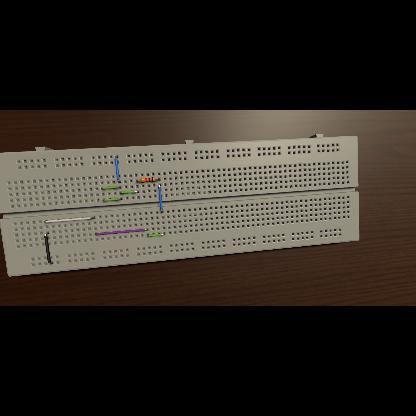breadboard: (0, 134, 360, 276)
resistor: (140, 178, 156, 182)
wire: (96, 229, 148, 235), (44, 218, 96, 223), (45, 233, 53, 265), (115, 157, 121, 183), (159, 185, 163, 213), (101, 186, 121, 190), (103, 198, 123, 202), (147, 233, 165, 237), (120, 191, 138, 194), (136, 180, 140, 182), (156, 180, 160, 180)
